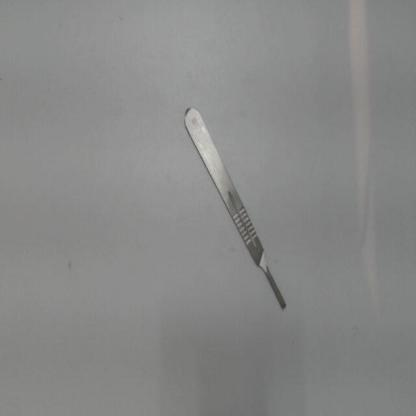No.4 BP Handle: (173, 92, 294, 321)
